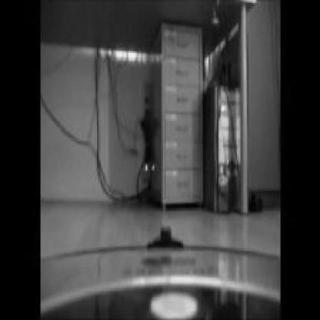other: (96, 35, 162, 71), (136, 154, 162, 178)
